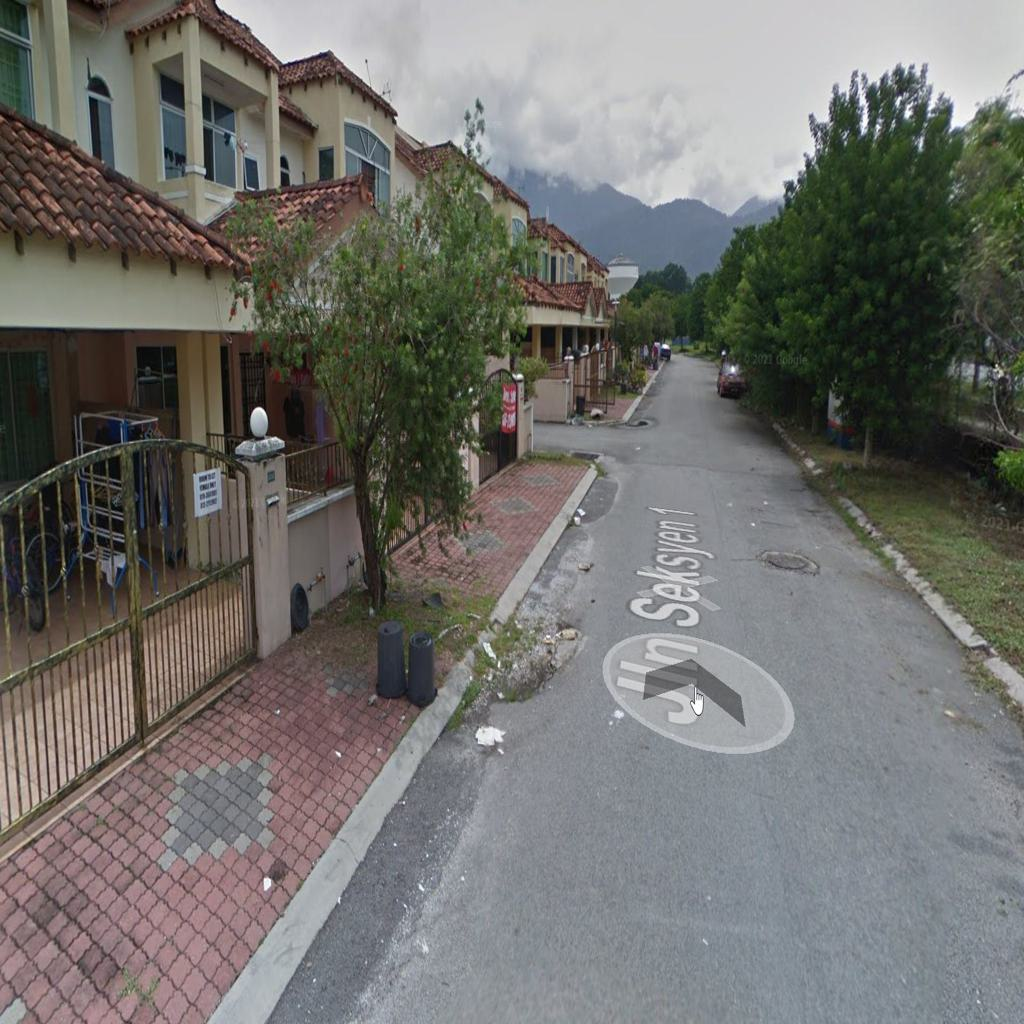Junction: (523, 393, 668, 485)
